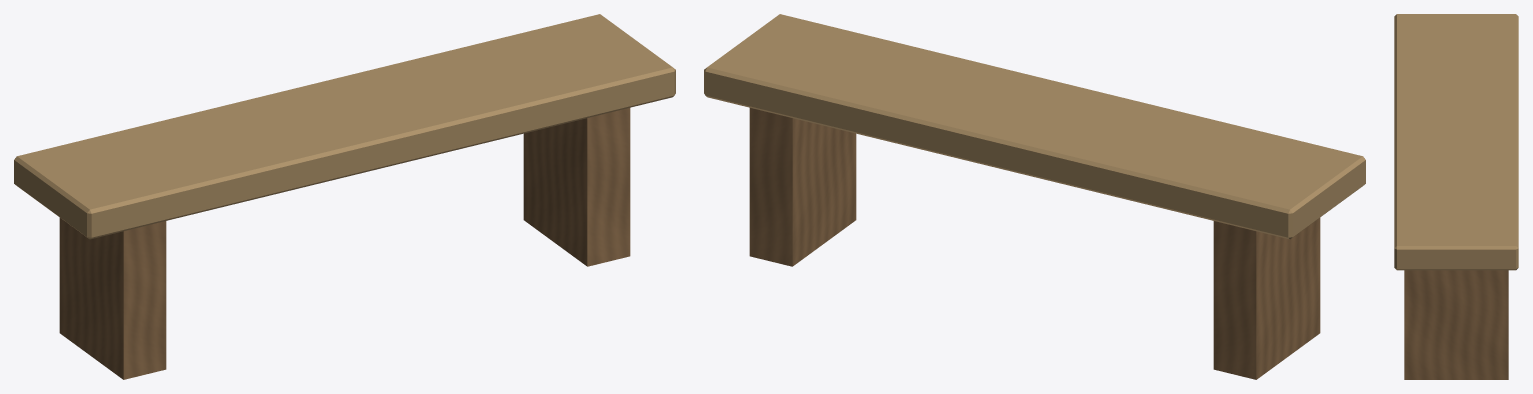
Rendered from bench.glb.
3 views of the same model, side by side, from view 1: azimuth 30°, elevation 25°; view 2: azimuth 150°, elevation 25°; view 3: azimuth 270°, elevation 25° (orthographic). The views are drawn at different scales.
Visible parts, largest first — view 1: bench; view 2: bench; view 3: bench.
Part boxes in pixels (x1,y1,x2,y2): bench: [14, 14, 675, 379]; bench: [704, 14, 1365, 379]; bench: [1394, 14, 1518, 379].
Bounding box in the file's own units: 1.65 × 0.49 × 0.37.
Materials: 2 (1 with a texture image).
